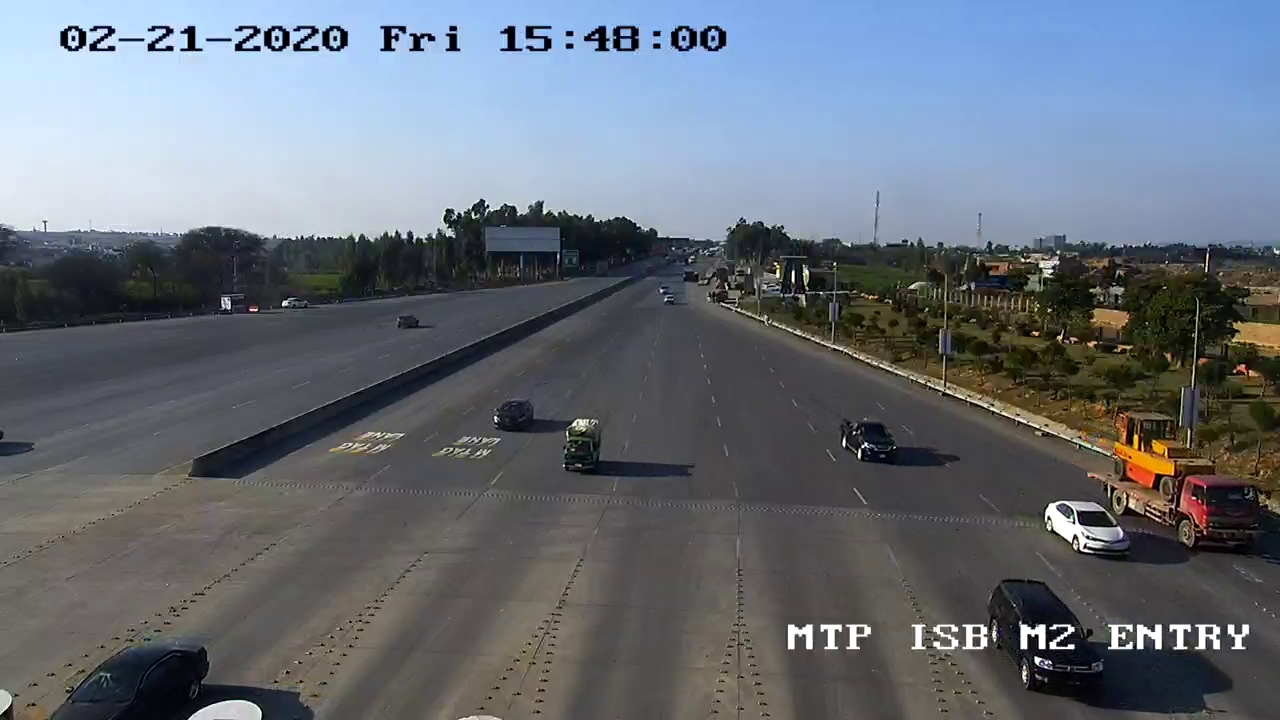f1: (1031, 483, 1134, 569), (831, 410, 907, 472), (552, 413, 608, 481), (488, 392, 540, 440)
